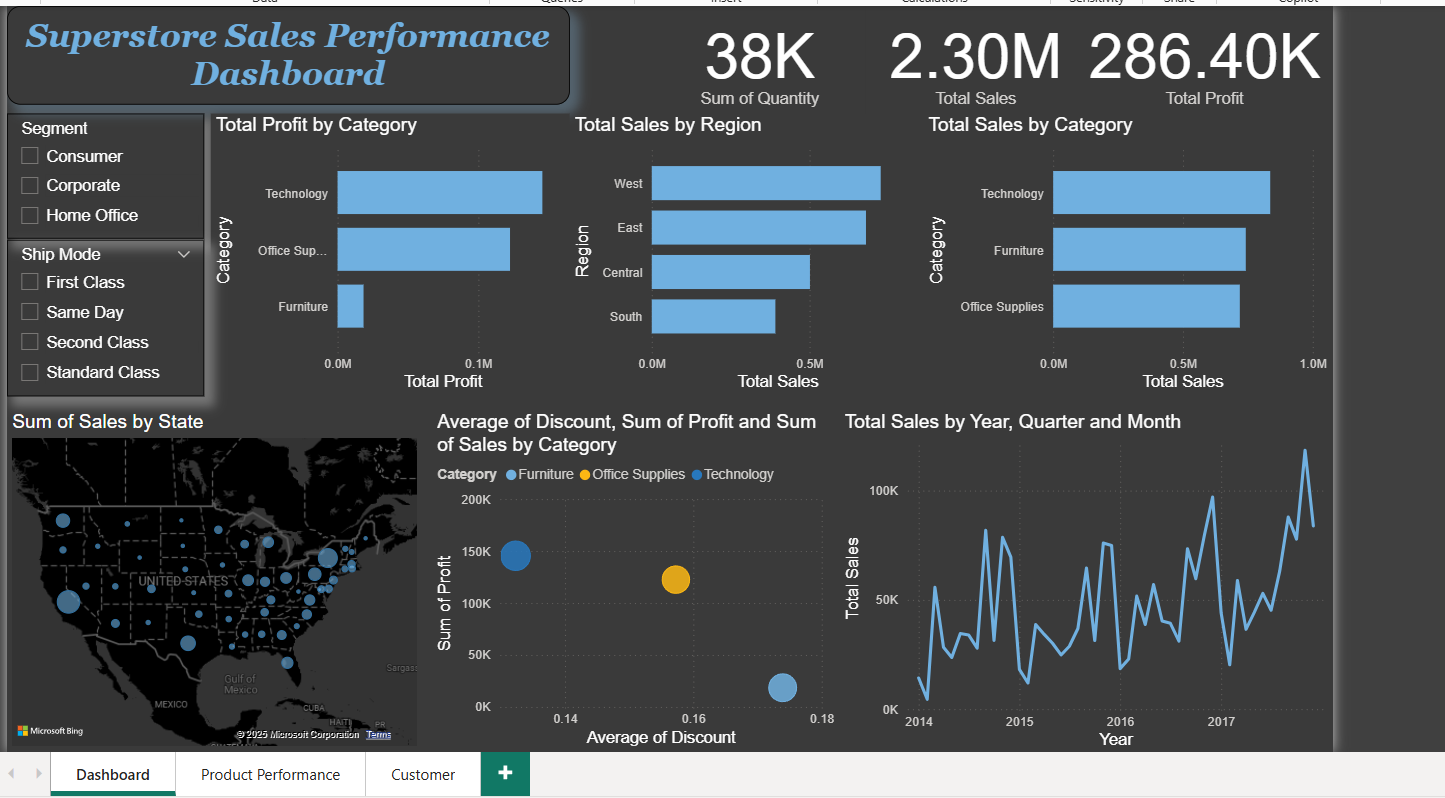

The dashboard page shown, as its layout file describes it:
{"tool":"powerbi","page":{"name":"Dashboard","canvas":[1280,720],"ordinal":0},"visuals":[{"type":"map","fields":{"Size":["Sum(Sample - Superstore.Sales)"],"Category":["DimLocation.State"]},"box":[0,390.9,400.5,328.2],"z":0},{"type":"clusteredBarChart","fields":{"Y":["FactSales.Total Sales"],"Category":["DimLocation.Region","DimLocation.State"]},"box":[542.6,104.3,342.3,272.7],"z":1000},{"type":"card","fields":{"Values":["FactSales.Total Profit"]},"box":[1031,0,249,104.3],"z":2000},{"type":"card","fields":{"Values":["Sum(FactSales.Quantity)"]},"box":[623.3,0,205.9,104.3],"z":3000},{"type":"card","fields":{"Values":["FactSales.Total Sales"]},"box":[829.2,0,212.9,104.3],"z":4000},{"type":"lineChart","fields":{"Y":["FactSales.Total Sales"],"Category":["Calendar.Date.Variation.Date Hierarchy.Year","Calendar.Date.Variation.Date Hierarchy.Quarter","Calendar.Date.Variation.Date Hierarchy.Month"]},"box":[803.5,390.9,476.5,330.6],"z":5000},{"type":"clusteredBarChart","fields":{"Y":["FactSales.Total Sales"],"Category":["DimProduct.Category","DimProduct.Sub-Category","DimProduct.Product Name"]},"box":[884.9,104.3,395.1,272.7],"z":6000},{"type":"scatterChart","fields":{"Y":["Sum(Sample - Superstore.Profit)"],"Size":["Sum(Sample - Superstore.Sales)"],"X":["FactSales.Discount"],"Series":["DimProduct.Category"]},"box":[410.2,390.9,393.3,328.2],"z":7000},{"type":"textbox","box":[0,0,542.9,95.3],"z":8000},{"type":"slicer","fields":{"Values":["DimCustomer.Segment"]},"box":[0,103.8,190.6,120.6],"z":9000},{"type":"clusteredBarChart","fields":{"Y":["FactSales.Total Profit"],"Category":["DimProduct.Category","DimProduct.Sub-Category","DimProduct.Product Name"]},"box":[196.2,104.3,346.4,272.7],"z":10000},{"type":"slicer","fields":{"Values":["Sample - Superstore.Ship Mode"]},"box":[0,225.6,190.6,150.8],"z":11000}]}

Visuals, with their boxes on the page's 1280x720 design canvas (x1, y1, x2, y2). These are canvas units, not pixel positions in the 1445x798 screenshot, which may show the page scaled, cropped or inside an application window:
map - Sum(Sample - Superstore.Sales) x DimLocation.State: [x1=0, y1=391, x2=400, y2=719]
clusteredBarChart - FactSales.Total Sales x DimLocation.Region: [x1=543, y1=104, x2=885, y2=377]
card - FactSales.Total Profit: [x1=1031, y1=0, x2=1280, y2=104]
card - Sum(FactSales.Quantity): [x1=623, y1=0, x2=829, y2=104]
card - FactSales.Total Sales: [x1=829, y1=0, x2=1042, y2=104]
lineChart - FactSales.Total Sales x Calendar.Date.Variation.Date Hierarchy.Year: [x1=804, y1=391, x2=1280, y2=722]
clusteredBarChart - FactSales.Total Sales x DimProduct.Category: [x1=885, y1=104, x2=1280, y2=377]
scatterChart - Sum(Sample - Superstore.Profit) x Sum(Sample - Superstore.Sales): [x1=410, y1=391, x2=804, y2=719]
textbox: [x1=0, y1=0, x2=543, y2=95]
slicer - DimCustomer.Segment: [x1=0, y1=104, x2=191, y2=224]
clusteredBarChart - FactSales.Total Profit x DimProduct.Category: [x1=196, y1=104, x2=543, y2=377]
slicer - Sample - Superstore.Ship Mode: [x1=0, y1=226, x2=191, y2=376]
